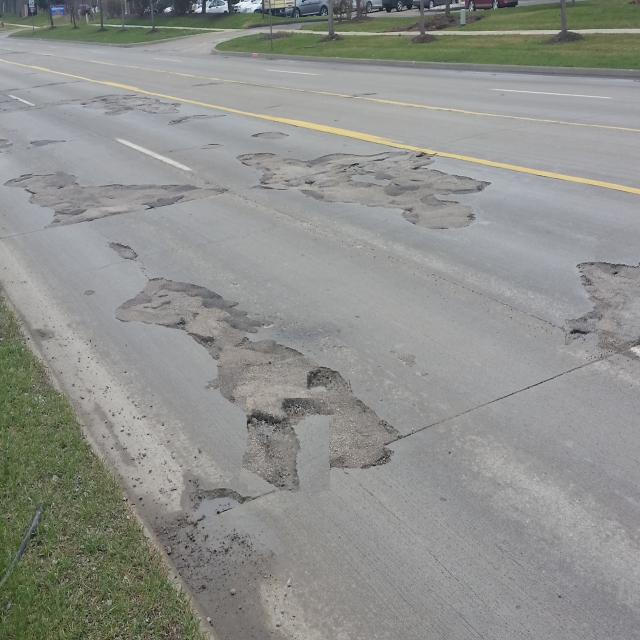Pothole: (243, 394, 331, 493), (593, 243, 640, 289), (307, 348, 351, 396), (107, 225, 145, 261), (565, 319, 598, 345)
